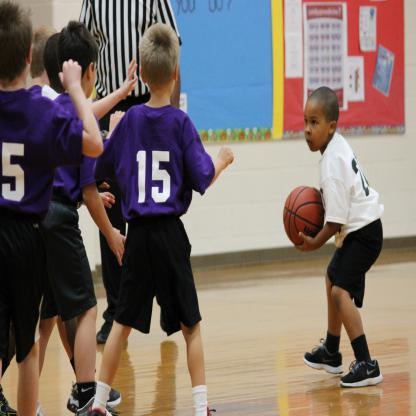Ball: (282, 184, 326, 246)
